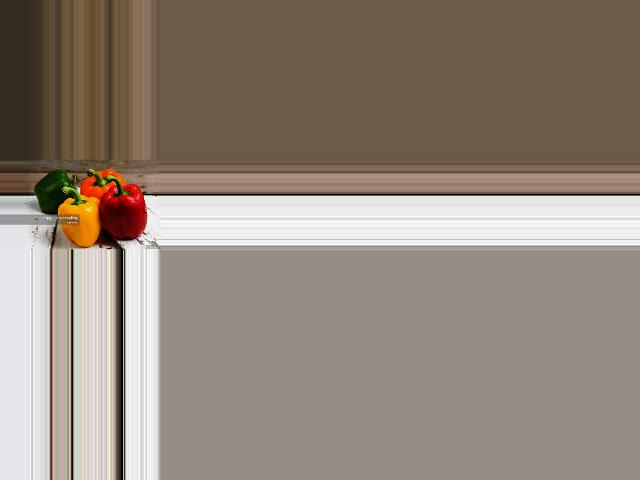bell_pepper: (78, 168, 125, 201)
